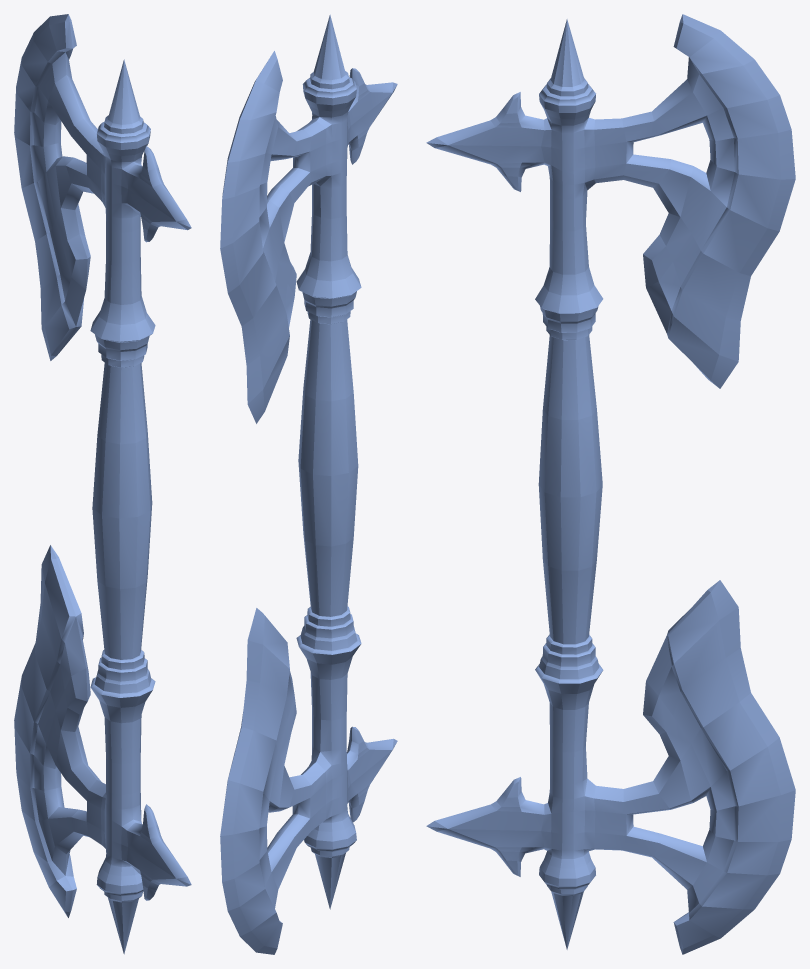
The model's file is Axe.fbx.
The picture shows the model from 3 angles, left to right: view 1: azimuth 30°, elevation 25°; view 2: azimuth 150°, elevation 25°; view 3: azimuth 270°, elevation 25°; orthographic projection. The views are drawn at different scales.
Visible parts, largest first — view 1: Axe; view 2: Axe; view 3: Axe.
Boxes of the visible parts, x1,y1,x2,y2 form: Axe: (14,14,191,954); Axe: (220,14,397,954); Axe: (426,14,795,954).
Size of the model in its own units: 6.23 by 98.12 by 34.93.
